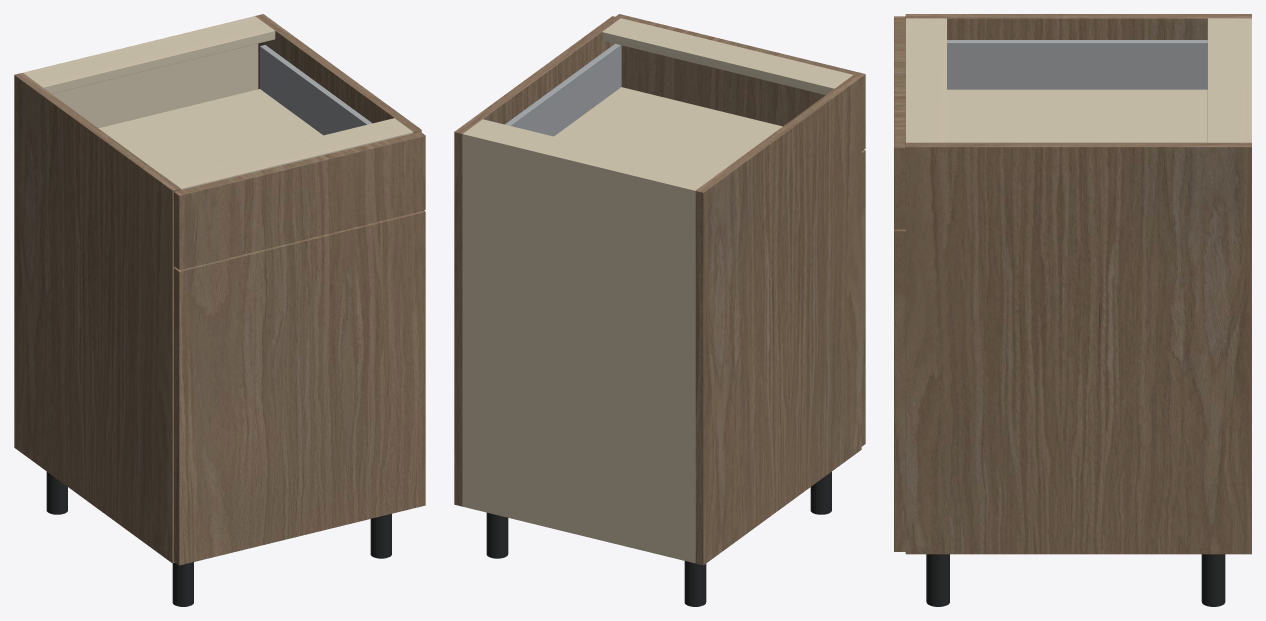
File: oppein-ply-mnw-b21.glb
3 views of the same model, side by side, from view 1: azimuth 30°, elevation 25°; view 2: azimuth 150°, elevation 25°; view 3: azimuth 270°, elevation 25° (orthographic). The views are drawn at different scales.
Parts seen in each view (by area): view 1: Door, Cabinet side, Drawer front, Drawer floor, Cabinet back, Top support rail, Top support rail.001, Drawer side.001, Cabinet side.001, Adjustable foot.001, Adjustable foot.003, Adjustable foot; view 2: Cabinet back, Cabinet side, Drawer floor, Drawer front, Cabinet side.001, Top support rail.001, Drawer side.001, Top support rail, Door, Adjustable foot, Adjustable foot.002, Adjustable foot.001; view 3: Cabinet side.001, Drawer floor, Drawer side, Cabinet side, Top support rail.001, Top support rail, Door, Drawer front, Adjustable foot.002, Adjustable foot.003, Cabinet back.
Part boxes in pixels (x1,y1,x2,y2): Door: (174,210,425,565); Cabinet side: (14,73,180,563); Drawer front: (174,131,425,269); Drawer floor: (99,89,322,174); Cabinet back: (23,16,258,128); Top support rail: (24,18,275,93); Top support rail.001: (162,118,413,189); Drawer side.001: (260,45,372,135); Cabinet side.001: (255,14,421,133); Adjustable foot.001: (172,562,193,606); Adjustable foot.003: (370,514,391,558); Adjustable foot: (46,472,67,514); Cabinet back: (462,132,697,563); Cabinet side: (695,75,861,565); Drawer floor: (554,87,782,175); Drawer front: (615,14,865,150); Cabinet side.001: (454,16,620,506); Top support rail.001: (602,18,852,94); Drawer side.001: (505,43,621,136); Top support rail: (466,119,714,188); Door: (861,150,865,446); Adjustable foot: (684,561,706,606); Adjustable foot.002: (486,512,508,558); Adjustable foot.001: (810,471,831,514); Cabinet side.001: (905,142,1251,554); Drawer floor: (947,89,1207,142); Drawer side: (947,40,1207,89); Cabinet side: (905,14,1251,39); Top support rail.001: (905,18,946,142); Top support rail: (1207,18,1245,142); Door: (894,229,905,551); Drawer front: (894,16,905,229); Adjustable foot.002: (1201,554,1225,606); Adjustable foot.003: (926,554,949,606); Cabinet back: (1245,18,1251,142).
Bounding box in the file's own units: 0.5334 × 0.8763 × 0.6064.
4 materials, 1 textured.
